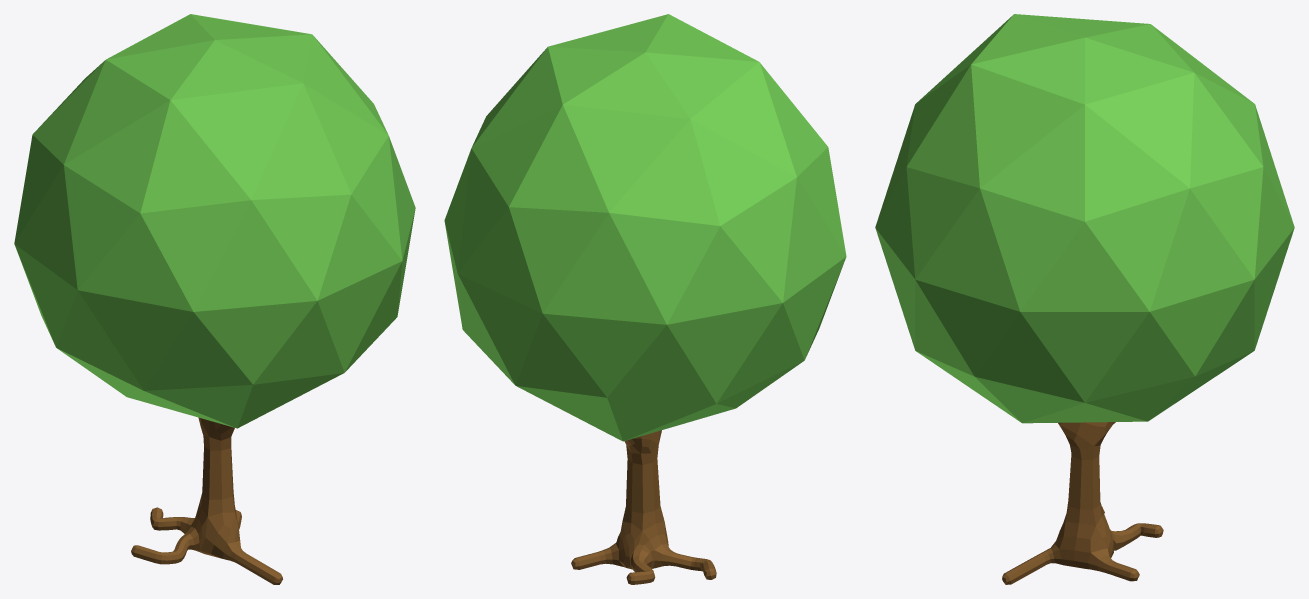
File: tree59.gltf
The picture shows the model from 3 angles, left to right: view 1: azimuth 30°, elevation 25°; view 2: azimuth 150°, elevation 25°; view 3: azimuth 270°, elevation 25°; orthographic projection. The views are drawn at different scales.
Visible parts, largest first — view 1: Icosphere, Cube; view 2: Icosphere, Cube; view 3: Icosphere, Cube.
Boxes of the visible parts, <box> form: Icosphere: <box>14,14,415,428</box>; Cube: <box>131,417,282,584</box>; Icosphere: <box>444,14,846,441</box>; Cube: <box>571,430,716,584</box>; Icosphere: <box>875,14,1294,423</box>; Cube: <box>1002,422,1163,584</box>.
Bounding box in the file's own units: 3.11 × 4.6 × 3.27.
